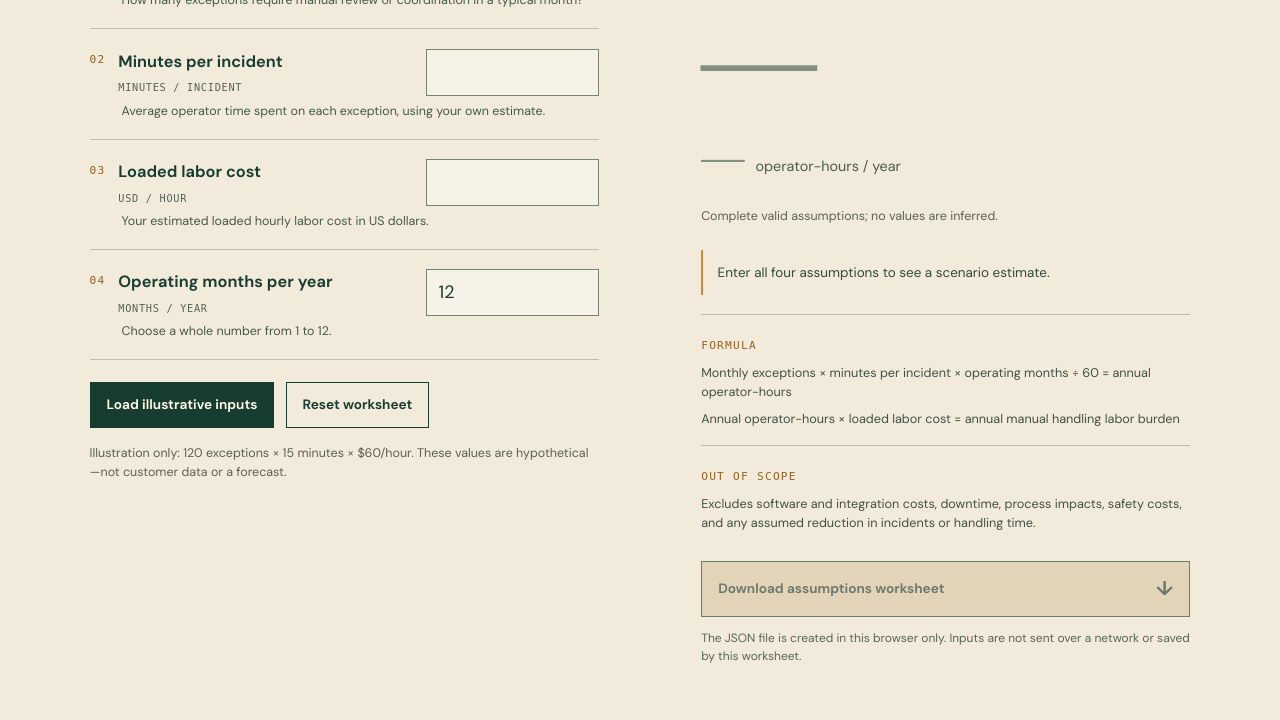
Test: ValueWorksheet › resets assumptions and results to the blank starting state
(page scrolled)
Click the button "Load illustrative inputs" at (182, 405), box [90,382,274,428]
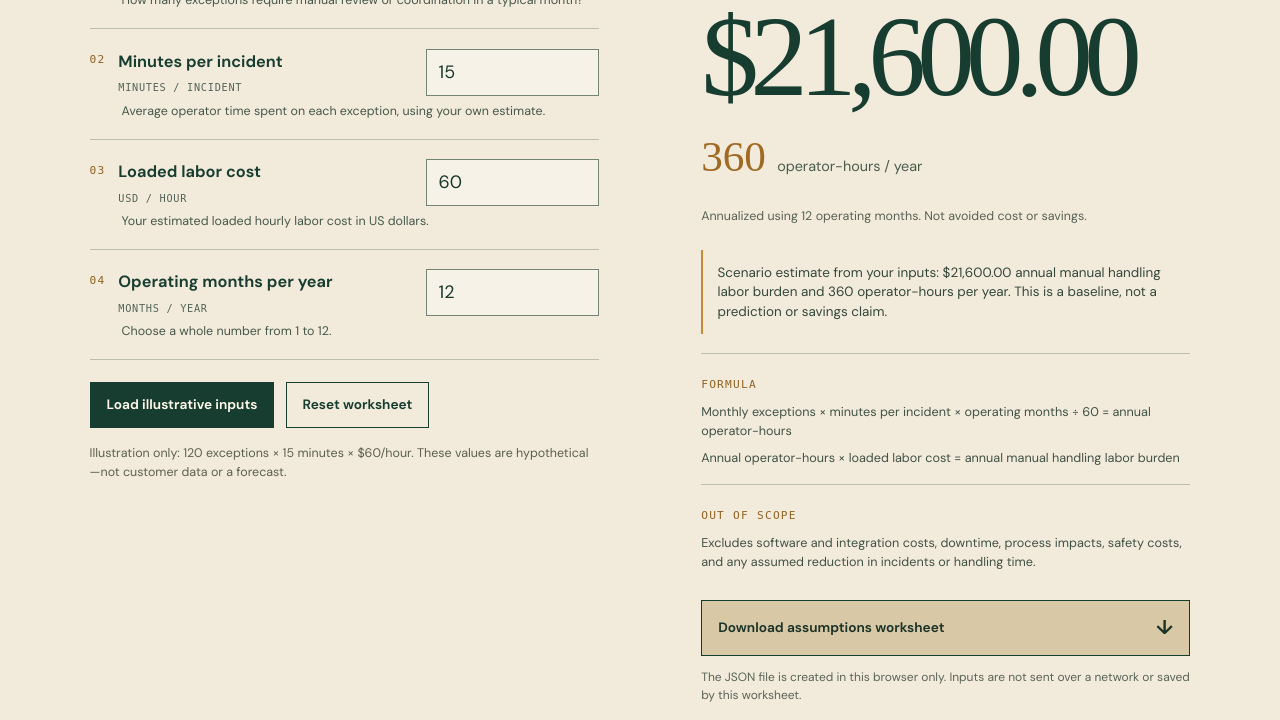
Click the button "Reset worksheet" at (358, 405), box [286,382,429,428]
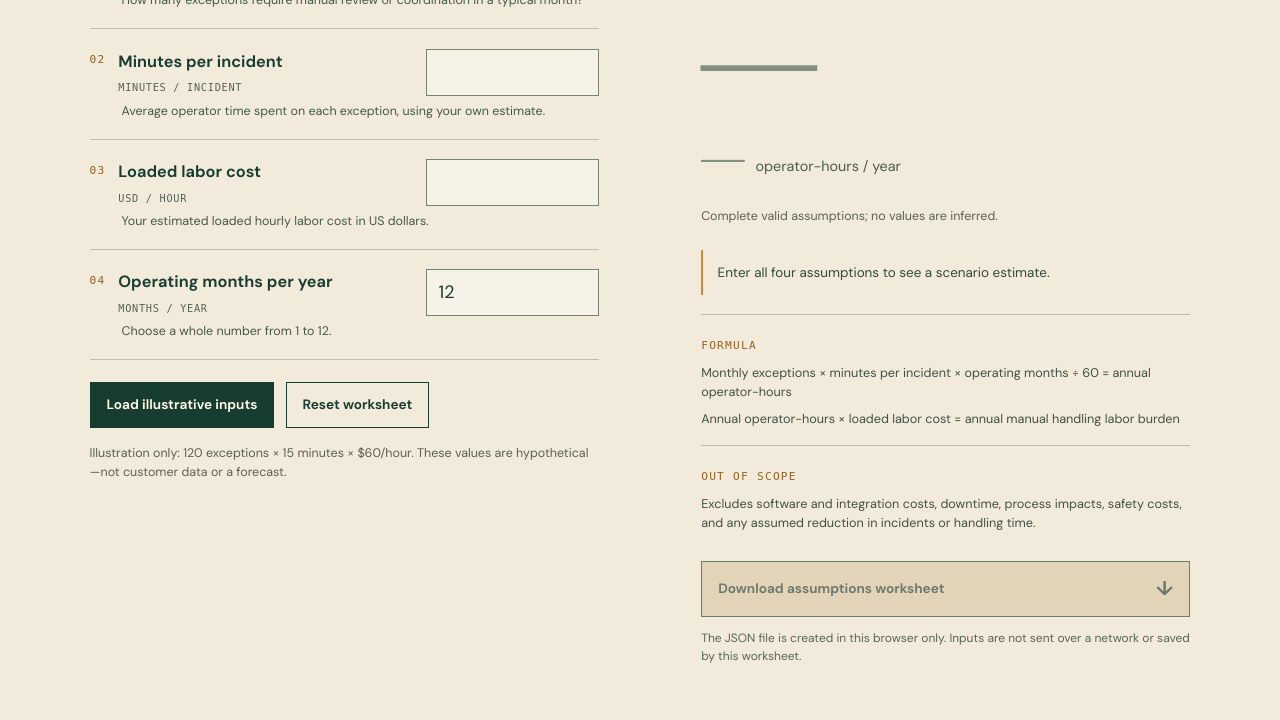
Check: the number field labelled "02 Minutes per incident minutes / incident" is not empty, box [426,48,599,96]
Check: the number field labelled "03 Loaded labor cost USD / hour" is not empty, box [426,159,599,206]
Check: the text "Enter all four assumptions to see a scenario estimate." is shown, box [701,250,1190,295]
